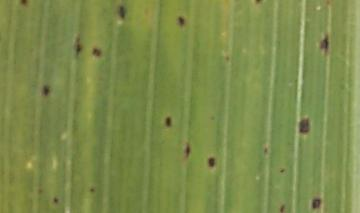tarspot: (318, 31, 329, 52), (298, 116, 310, 135), (73, 34, 82, 56), (116, 4, 126, 19), (311, 197, 321, 211), (205, 156, 216, 168), (183, 142, 191, 158), (90, 46, 101, 57), (42, 84, 50, 96), (165, 115, 172, 127), (262, 143, 268, 155), (279, 203, 286, 213), (37, 185, 44, 195), (178, 15, 184, 26), (52, 195, 59, 204), (87, 187, 95, 194), (19, 1, 28, 7), (209, 114, 216, 121), (253, 1, 264, 5), (279, 167, 286, 173), (225, 54, 230, 62)
